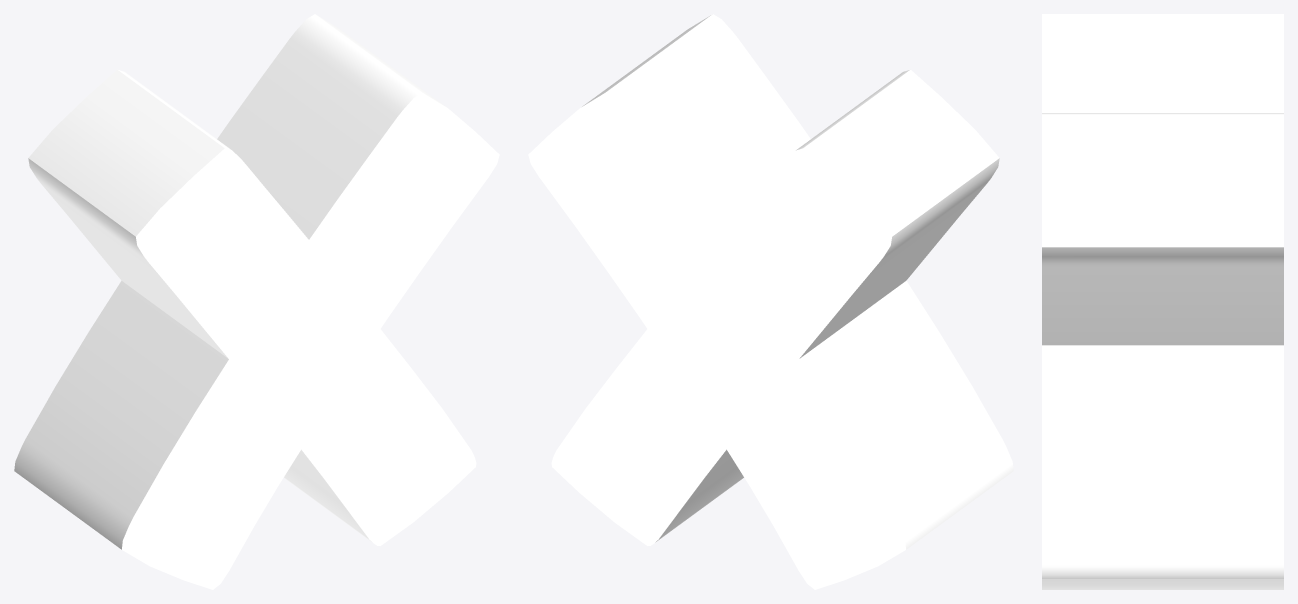
File: X_Zyzol_White.glb
3 views of the same model, side by side, from view 1: azimuth 30°, elevation 25°; view 2: azimuth 150°, elevation 25°; view 3: azimuth 270°, elevation 25° (orthographic). The views are drawn at different scales.
Visible parts, largest first — view 1: x_Zyzol_White; view 2: x_Zyzol_White; view 3: x_Zyzol_White.
Part boxes in pixels (x1,y1,x2,y2): x_Zyzol_White: (14, 14, 499, 589); x_Zyzol_White: (528, 14, 1013, 589); x_Zyzol_White: (1042, 14, 1283, 589).
Size of what is drawn, in the model's own units: 0.0913 by 0.103 by 0.045.
Materials: 2 (2 with a texture image).
